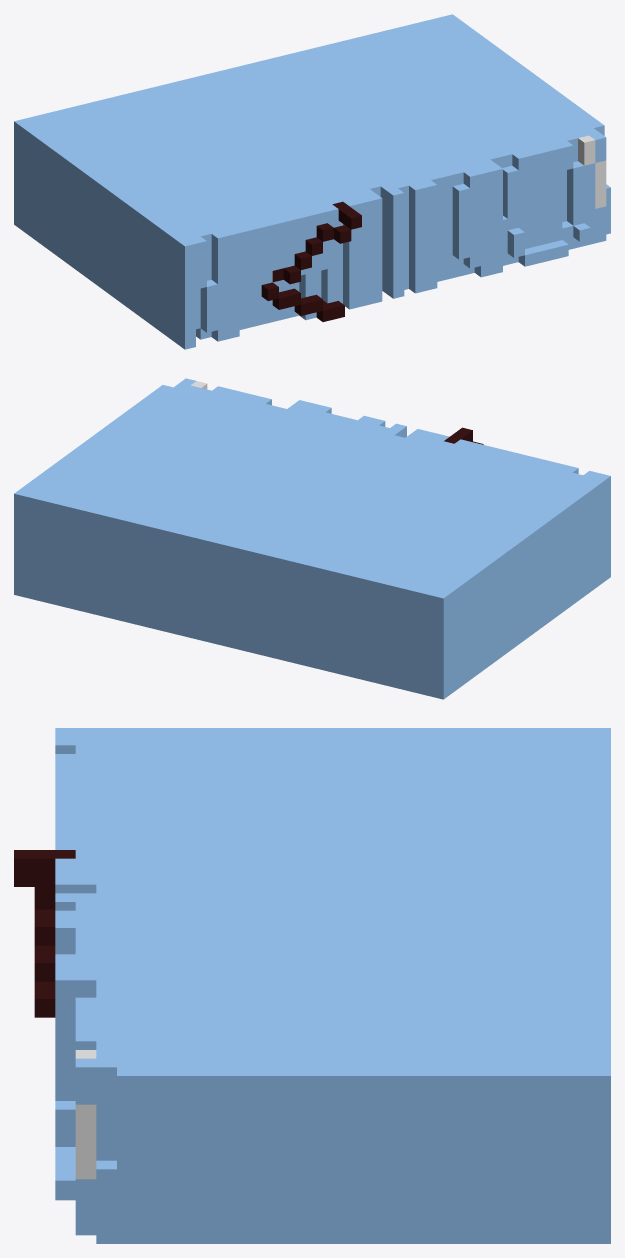
The model's file is snow1.obj.
3 renders of one model, top to bottom at view 1: azimuth 30°, elevation 25°; view 2: azimuth 150°, elevation 25°; view 3: azimuth 270°, elevation 25°, orthographic. The views are drawn at different scales.
Size of the model in its own units: 4 by 0.9 by 2.9.
1 material, 1 textured.
